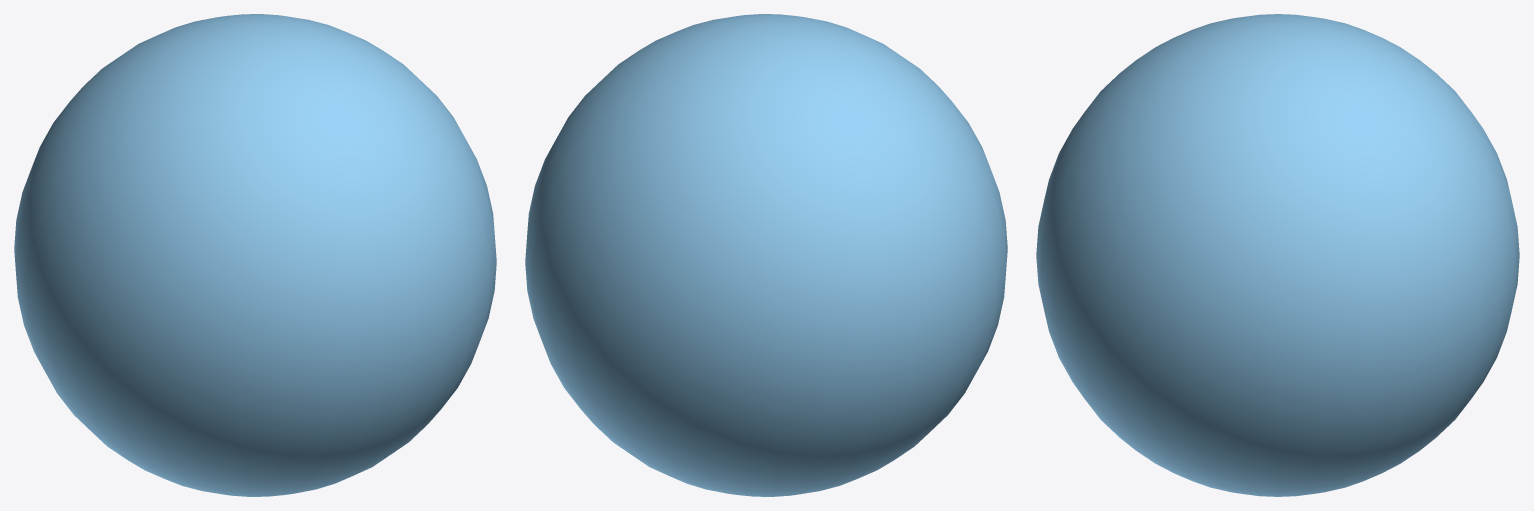
3 views of the same model, side by side, from view 1: azimuth 30°, elevation 25°; view 2: azimuth 150°, elevation 25°; view 3: azimuth 270°, elevation 25° (orthographic).
Parts seen in each view (by area): view 1: spin; view 2: spin; view 3: spin.
Part boxes in pixels (x1,y1,x2,y2): spin: (14, 14, 496, 496); spin: (525, 14, 1007, 496); spin: (1036, 14, 1519, 496).
Bounding box in the file's own units: 2 × 2 × 2.
